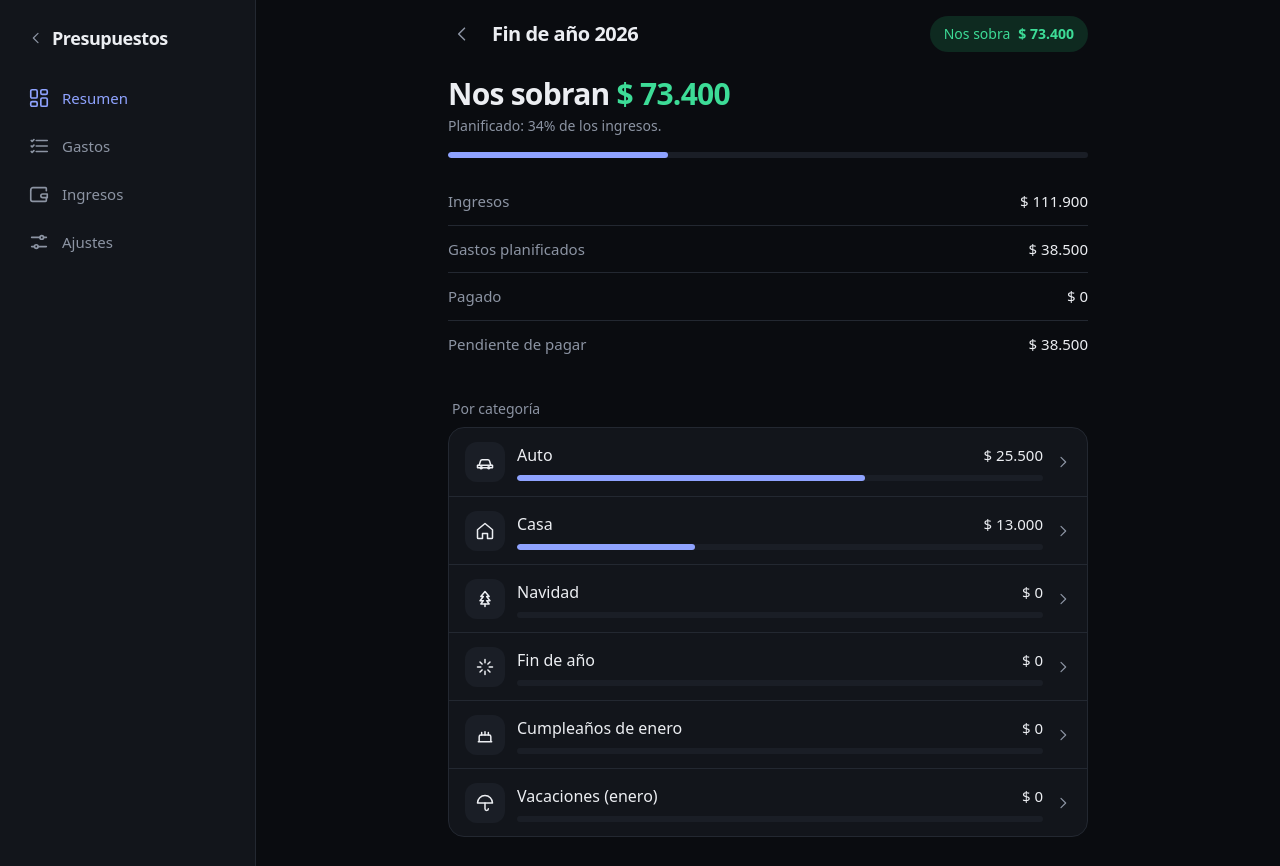
Test: lista de regalos de Navidad (UI) › el presupuesto general se aplica a las 16 personas
Click the button "Navidad $ 0" at (485, 598), box x1=449 y1=564 x2=1087 y2=632
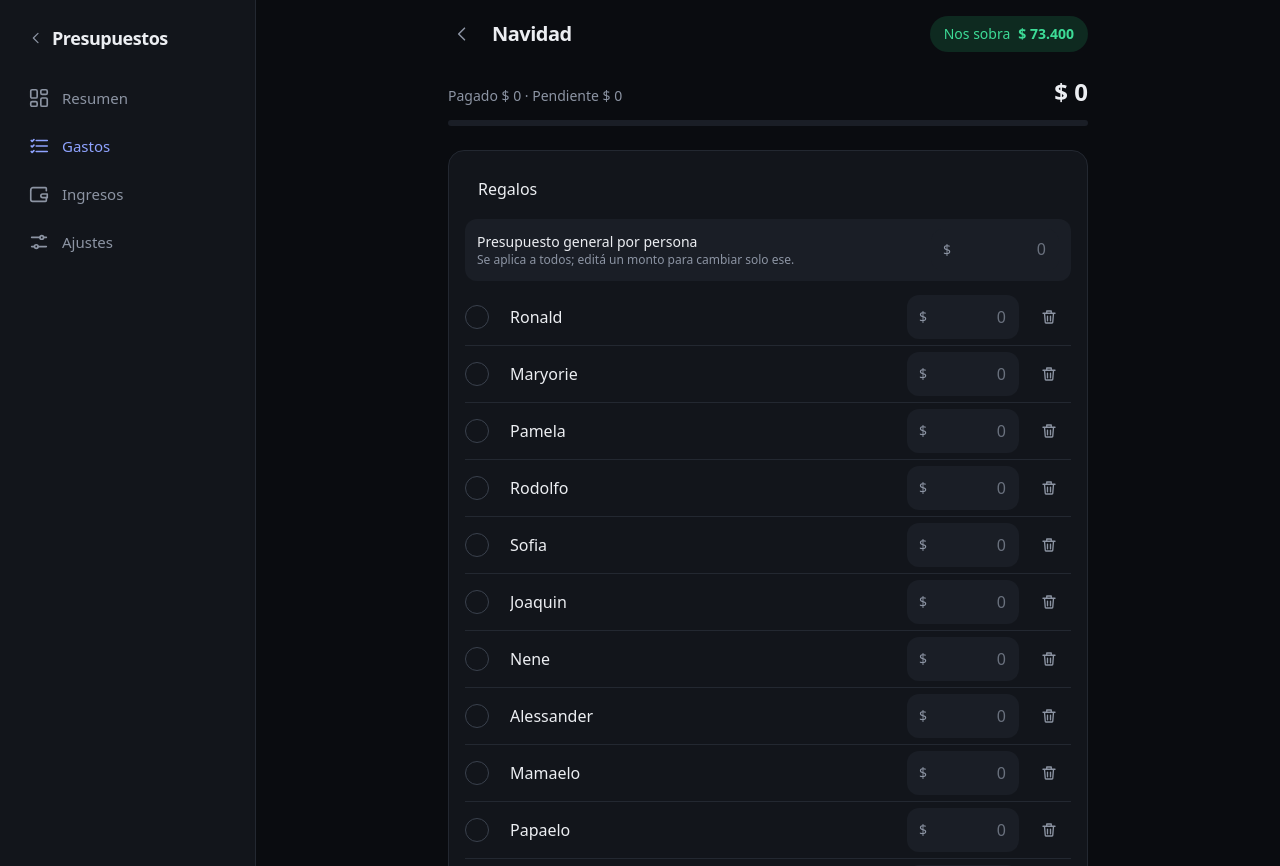
Type "1000" into the number field named "Presupuesto general de Regalos" at (995, 250), box x1=931 y1=229 x2=1059 y2=271
(page scrolled)
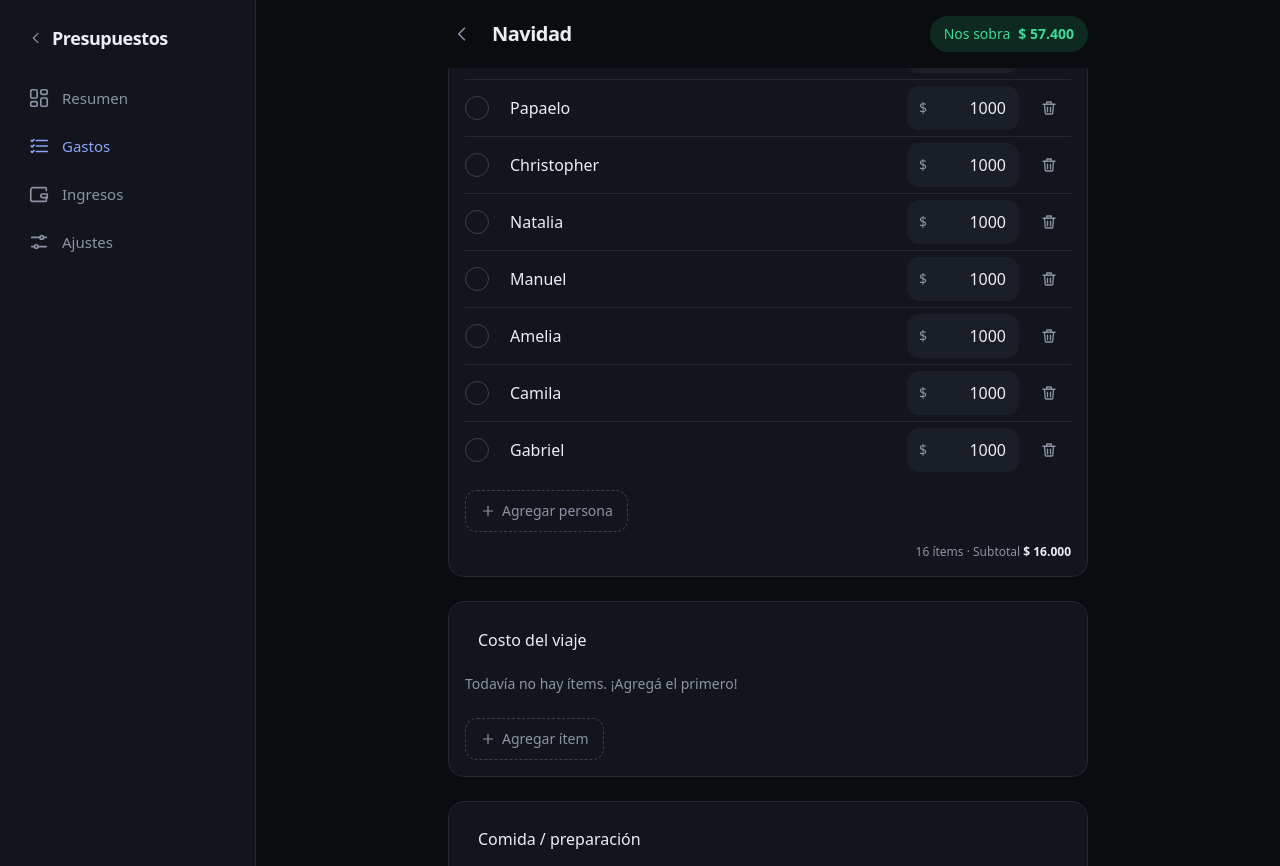
expect the number field named "Monto de Gabriel" holds "1000": met, box x1=907 y1=428 x2=1019 y2=472
